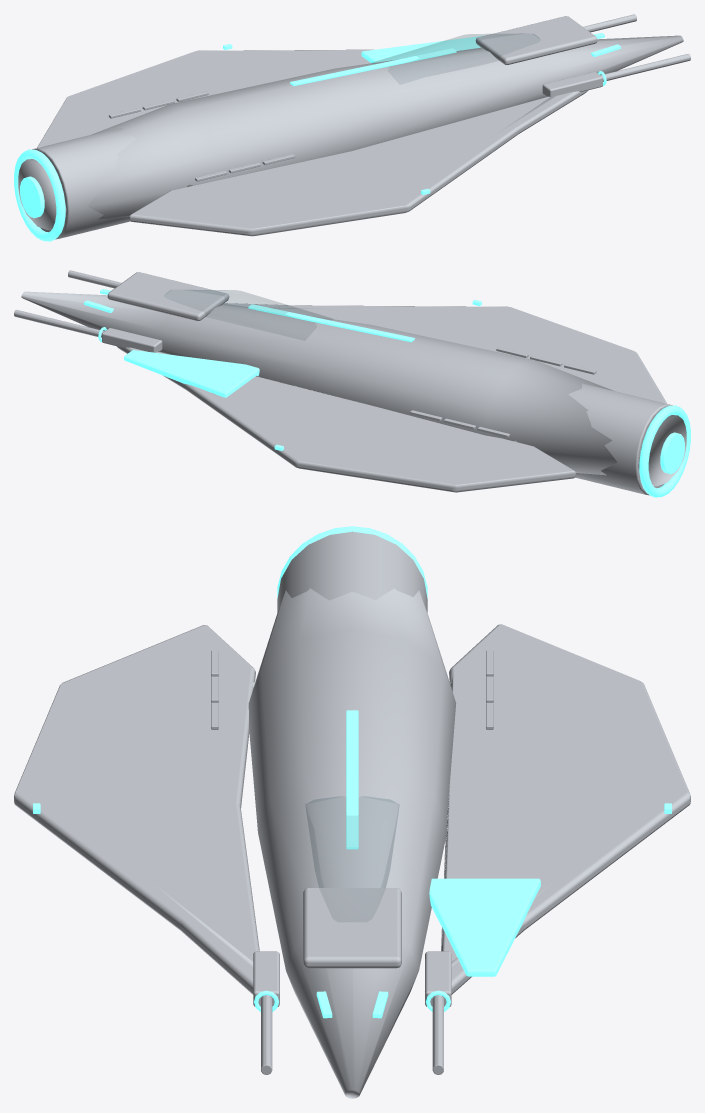
Rendered from wasp.glb.
The picture shows the model from 3 angles, top to bottom: view 1: azimuth 30°, elevation 25°; view 2: azimuth 150°, elevation 25°; view 3: azimuth 270°, elevation 25°; orthographic projection. The views are drawn at different scales.
Visible parts, largest first — view 1: BAKE_SHELL, LOD0_Wasp_Dorsal_Identity, LOD0_Wasp_Canopy; view 2: BAKE_SHELL, LOD0_Wasp_Dorsal_Identity, LOD0_Wasp_Canopy; view 3: BAKE_SHELL, LOD0_Wasp_Dorsal_Identity.
Part boxes in pixels (x1=…): BAKE_SHELL: x1=18, y1=14, x2=690, y2=239; LOD0_Wasp_Dorsal_Identity: x1=14, y1=33, x2=620, y2=241; LOD0_Wasp_Canopy: x1=373, y1=33, x2=539, y2=62; BAKE_SHELL: x1=14, y1=270, x2=686, y2=495; LOD0_Wasp_Dorsal_Identity: x1=84, y1=289, x2=690, y2=497; LOD0_Wasp_Canopy: x1=165, y1=290, x2=331, y2=318; BAKE_SHELL: x1=14, y1=531, x2=690, y2=1098; LOD0_Wasp_Dorsal_Identity: x1=33, y1=526, x2=671, y2=1018.
Bounding box in the file's own units: 27.92 × 3.97 × 15.76.
